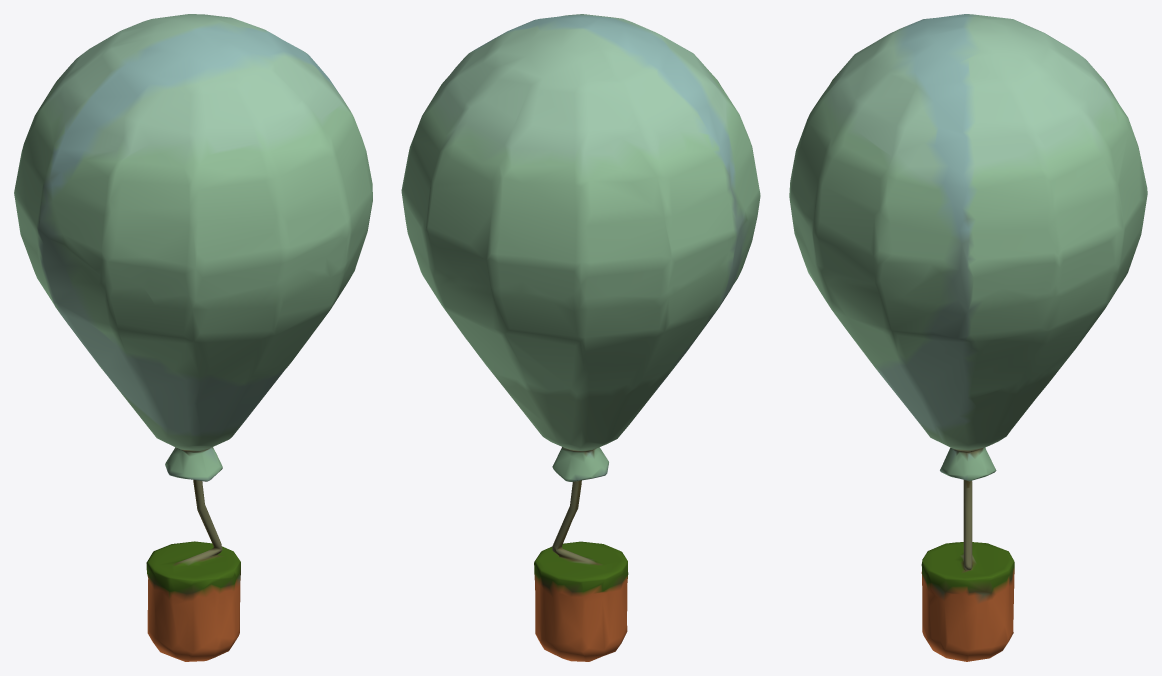
File: gen3d-balloon-lod0.glb
3 renders of one model, left to right at view 1: azimuth 30°, elevation 25°; view 2: azimuth 150°, elevation 25°; view 3: azimuth 270°, elevation 25°, orthographic.
Visible parts, largest first — view 1: part_0; view 2: part_0; view 3: part_0.
Boxes of the visible parts, x1=… form: part_0: x1=14, y1=14, x2=372, y2=661; part_0: x1=401, y1=14, x2=760, y2=661; part_0: x1=789, y1=14, x2=1147, y2=661.
Bounding box in the file's own units: 0.5197 × 1 × 0.5181.
